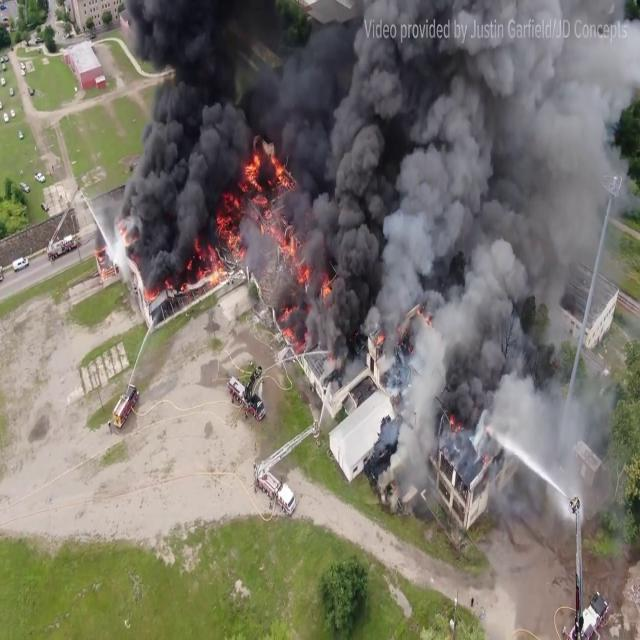Smoke: (308, 0, 627, 501), (100, 0, 336, 327)
